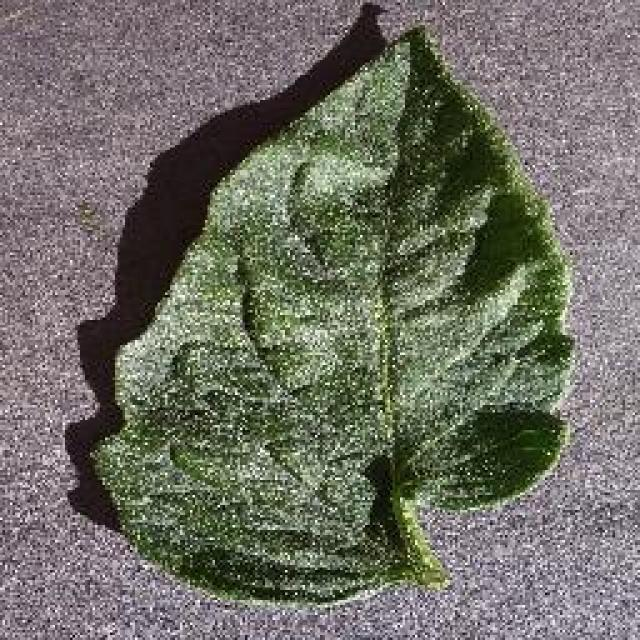Tomato___healthy: (83, 22, 579, 610)
